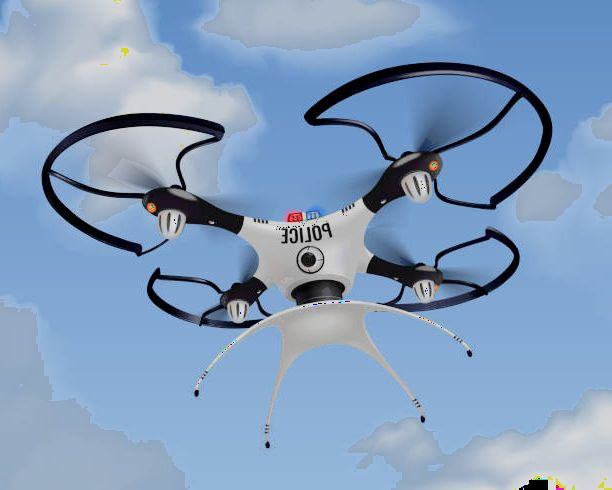Drone: (38, 61, 555, 338)
